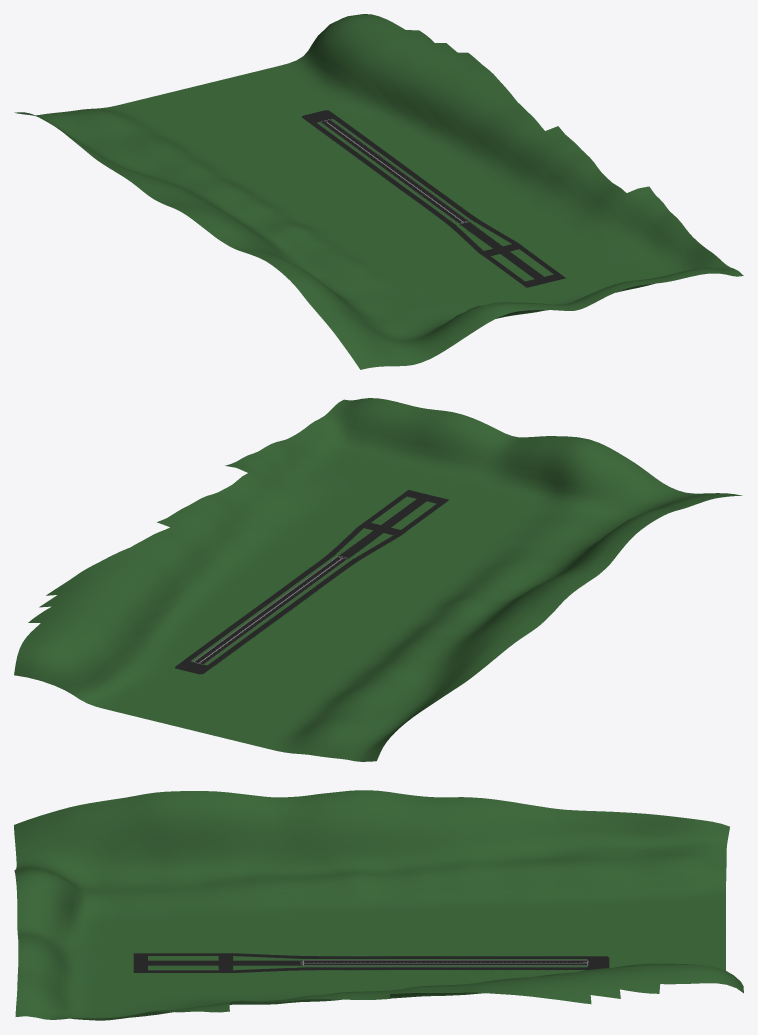
File: drag_strip.glb
The picture shows the model from 3 angles, top to bottom: view 1: azimuth 30°, elevation 25°; view 2: azimuth 150°, elevation 25°; view 3: azimuth 270°, elevation 25°; orthographic projection. The views are drawn at different scales.
Parts seen in each view (by area): view 1: Background Hills, Road, 400m segment; view 2: Background Hills, Road, 400m segment; view 3: Background Hills, Road, 400m segment, 400m segment - Barrier.
Boxes of the visible parts, x1=… form: Background Hills: x1=14, y1=14, x2=743, y2=369; Road: x1=302, y1=110, x2=565, y2=287; 400m segment: x1=321, y1=119, x2=467, y2=223; Background Hills: x1=14, y1=398, x2=742, y2=761; Road: x1=175, y1=490, x2=448, y2=674; 400m segment: x1=194, y1=557, x2=346, y2=664; Background Hills: x1=14, y1=790, x2=743, y2=1020; Road: x1=133, y1=953, x2=609, y2=972; 400m segment: x1=304, y1=960, x2=587, y2=964; 400m segment - Barrier: x1=304, y1=960, x2=587, y2=965.
Size of the model in its own units: 667 by 81.46 by 1030.
Materials: 4 (4 with a texture image).
